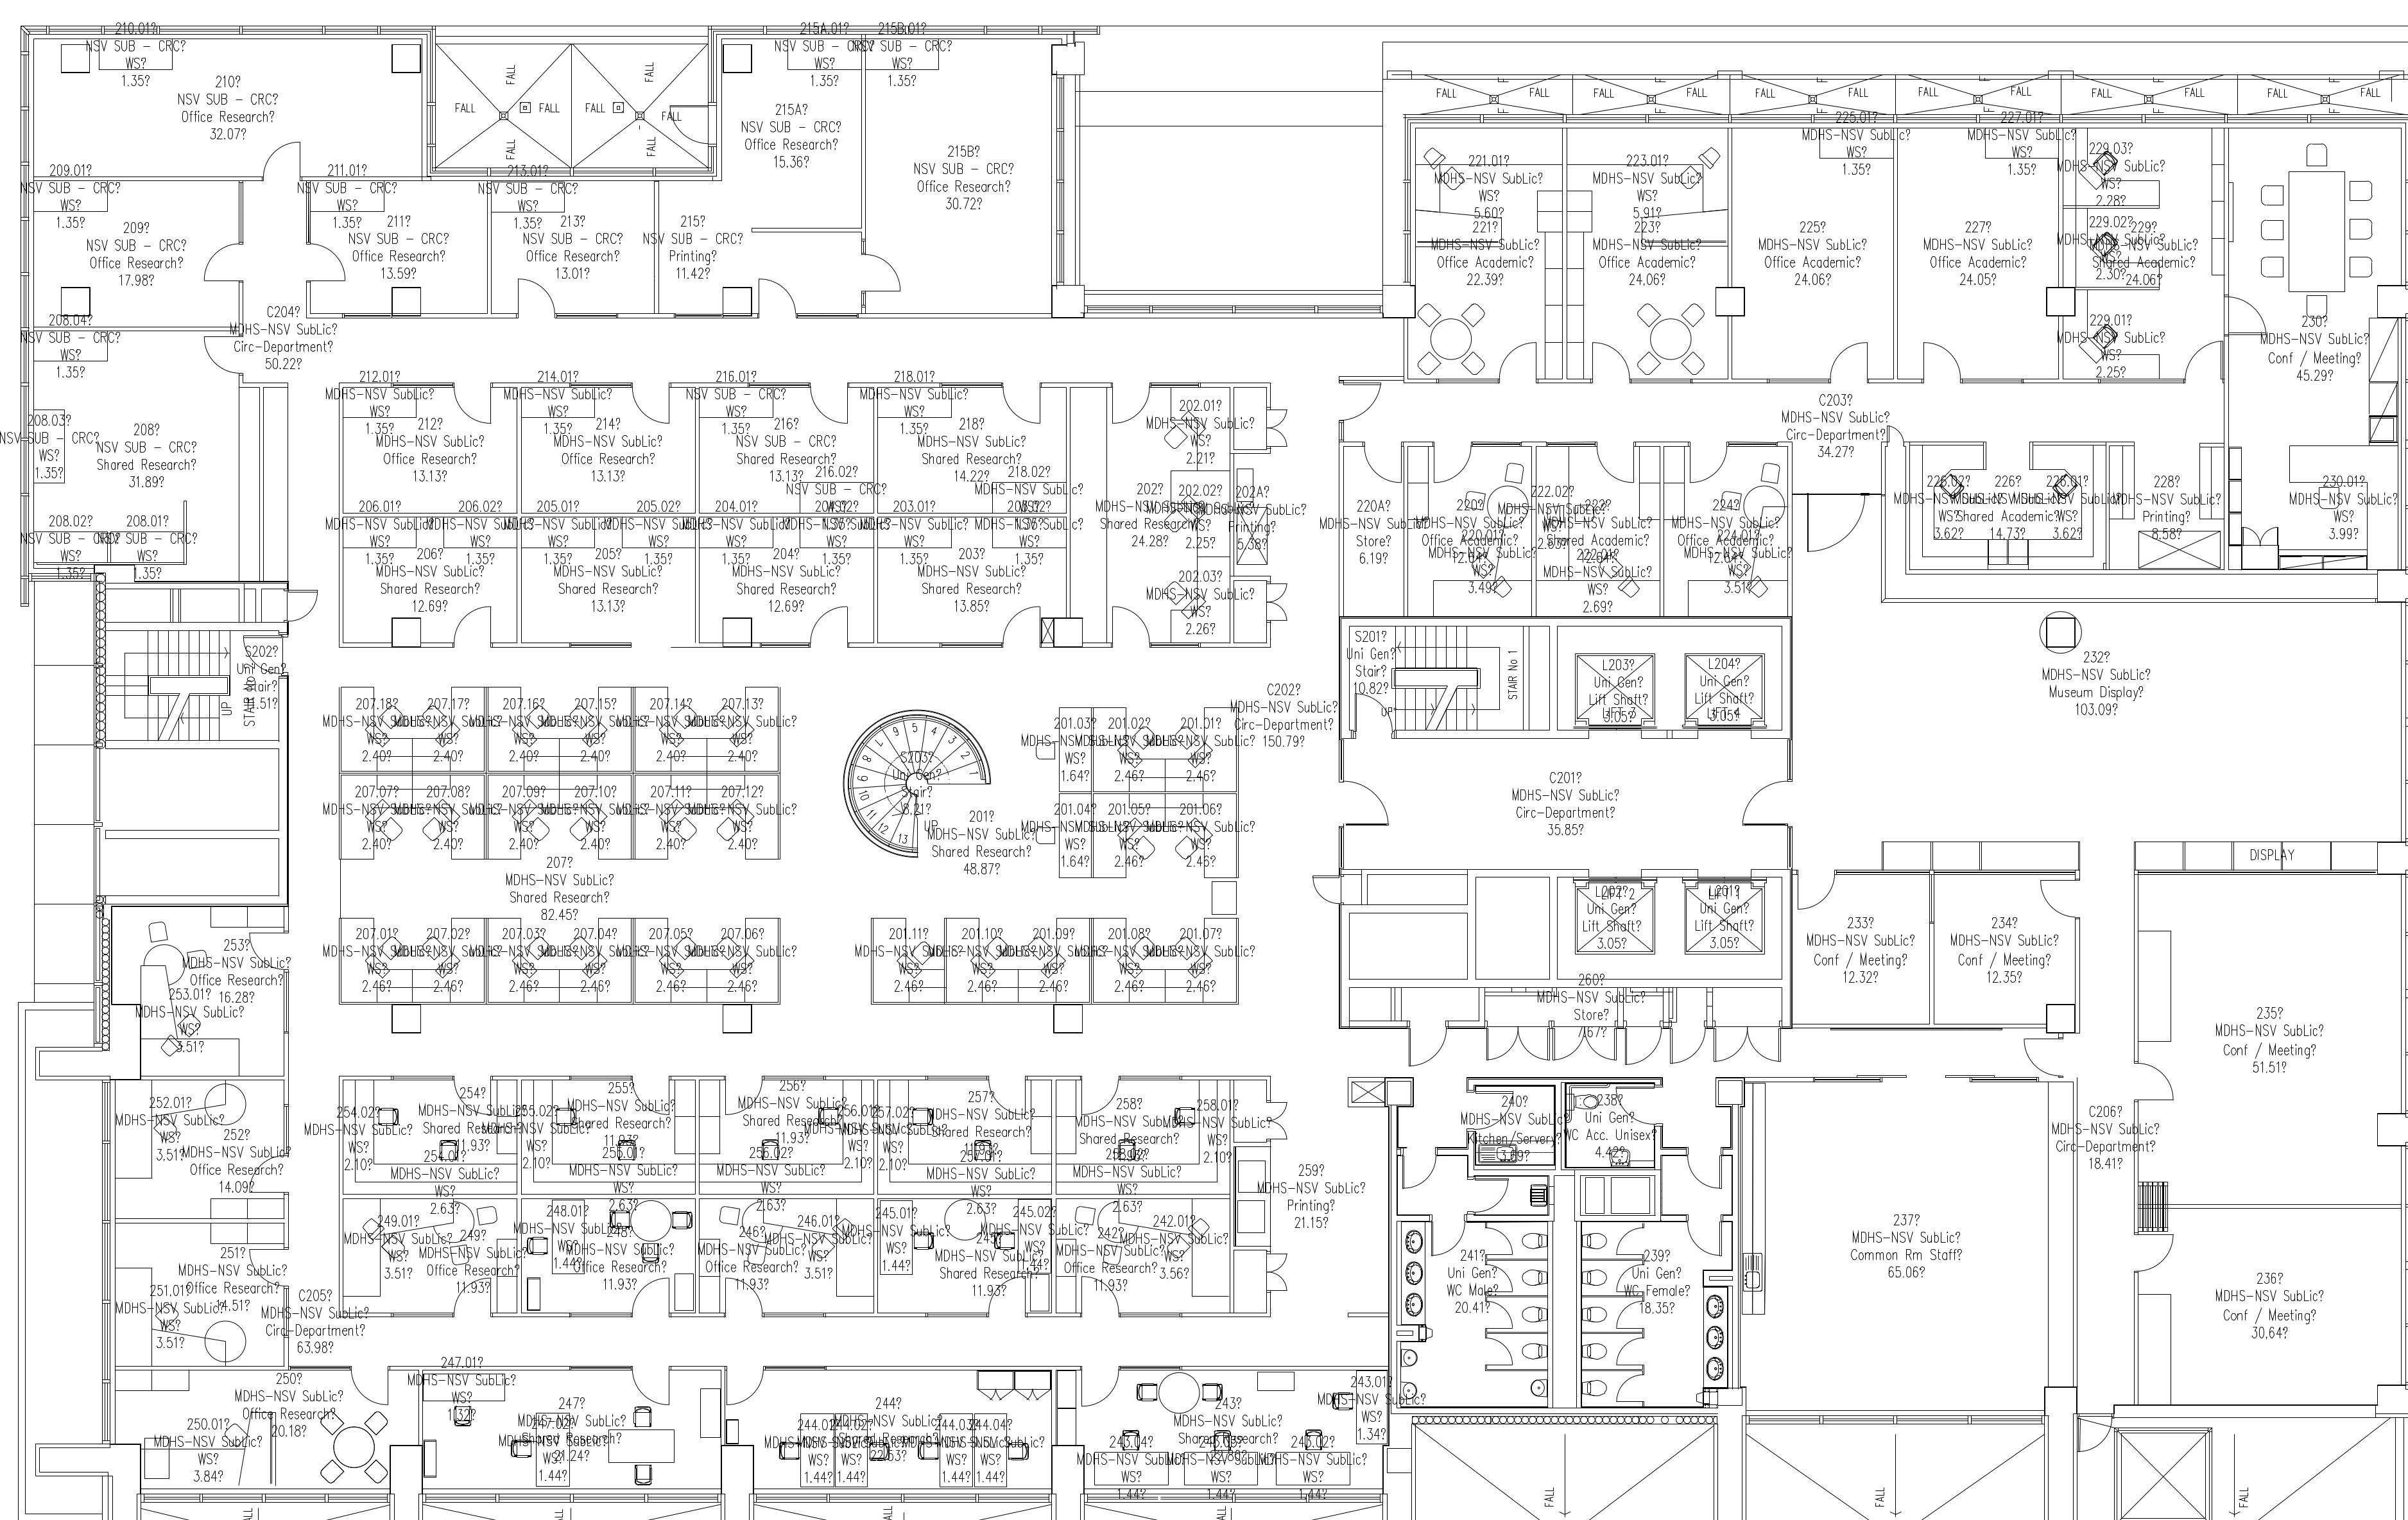text: (765, 1394, 1039, 1481), (871, 1194, 1050, 1312), (341, 1200, 514, 1308), (703, 1079, 877, 1187), (338, 1084, 511, 1187), (1074, 1094, 1251, 1187), (520, 1203, 689, 1299), (693, 1200, 864, 1294), (521, 1082, 689, 1177), (1895, 468, 2100, 545), (1057, 1200, 1214, 1299), (2207, 988, 2352, 1094), (485, 683, 635, 772), (1834, 1205, 1974, 1294), (1414, 499, 1536, 601), (1090, 711, 1237, 795), (910, 1086, 1038, 1182), (1545, 501, 1650, 616), (1092, 921, 1242, 1002), (633, 921, 780, 1003), (635, 688, 782, 771), (343, 686, 486, 771), (1092, 799, 1242, 877), (1157, 483, 1300, 566), (339, 921, 483, 1003), (1669, 499, 1794, 592), (486, 779, 639, 855), (336, 778, 485, 855), (483, 921, 628, 998), (500, 1394, 628, 1481), (635, 779, 779, 856), (2060, 214, 2203, 287), (84, 410, 199, 494), (2208, 1263, 2326, 1345), (919, 415, 1046, 489), (2040, 646, 2156, 727), (1946, 912, 2063, 991), (21, 149, 126, 236), (1423, 147, 1550, 219), (2051, 1100, 2165, 1180), (518, 207, 628, 289), (1801, 912, 1918, 989), (1507, 765, 1629, 839), (2257, 313, 2371, 392), (171, 67, 287, 144), (1227, 674, 1339, 753), (1759, 214, 1872, 291), (152, 1411, 268, 1487), (252, 1287, 373, 1359), (75, 18, 187, 95), (2284, 473, 2401, 546), (742, 102, 850, 180), (910, 138, 1018, 217), (1921, 214, 2040, 285), (1591, 217, 1706, 291), (1587, 147, 1708, 217), (1428, 221, 1549, 291), (108, 1285, 229, 1355), (640, 205, 744, 285), (912, 546, 1022, 622), (719, 550, 847, 615), (208, 637, 294, 734), (114, 1089, 222, 1165), (236, 1371, 352, 1441), (366, 548, 490, 613), (2056, 310, 2170, 380), (408, 1350, 511, 1427), (1778, 389, 1888, 461), (346, 212, 451, 287), (2112, 471, 2224, 541), (294, 154, 395, 231), (1536, 965, 1645, 1037), (136, 988, 247, 1058), (177, 1243, 289, 1312), (478, 154, 579, 229), (17, 499, 110, 581), (1801, 110, 1914, 177), (189, 1126, 294, 1198), (1150, 394, 1260, 462), (1148, 573, 1263, 637), (1260, 1159, 1367, 1229), (1325, 492, 1417, 573), (1568, 1080, 1659, 1161), (2060, 138, 2166, 207), (934, 1229, 1036, 1301), (782, 478, 884, 550), (231, 301, 339, 368), (499, 856, 619, 916), (185, 939, 285, 1010), (80, 219, 196, 280), (1965, 107, 2063, 179), (1461, 1094, 1561, 1165), (17, 326, 128, 389), (558, 552, 668, 615), (1090, 482, 1192, 550), (563, 415, 665, 483), (861, 19, 957, 91), (378, 419, 485, 482), (1620, 1236, 1696, 1326), (108, 511, 199, 581), (982, 469, 1080, 534), (1577, 872, 1654, 954), (1682, 879, 1766, 953), (749, 415, 842, 482), (5, 408, 84, 485), (871, 497, 964, 560), (597, 499, 703, 553), (693, 366, 787, 427), (324, 366, 434, 419), (1685, 657, 1764, 727), (322, 492, 422, 546), (775, 25, 861, 88), (1577, 655, 1654, 725), (1178, 1397, 1284, 1446), (695, 494, 780, 553), (864, 368, 961, 420), (969, 503, 1076, 548), (502, 371, 609, 417), (520, 494, 604, 552), (1442, 1245, 1503, 1320), (1339, 622, 1396, 699), (427, 499, 516, 546)
